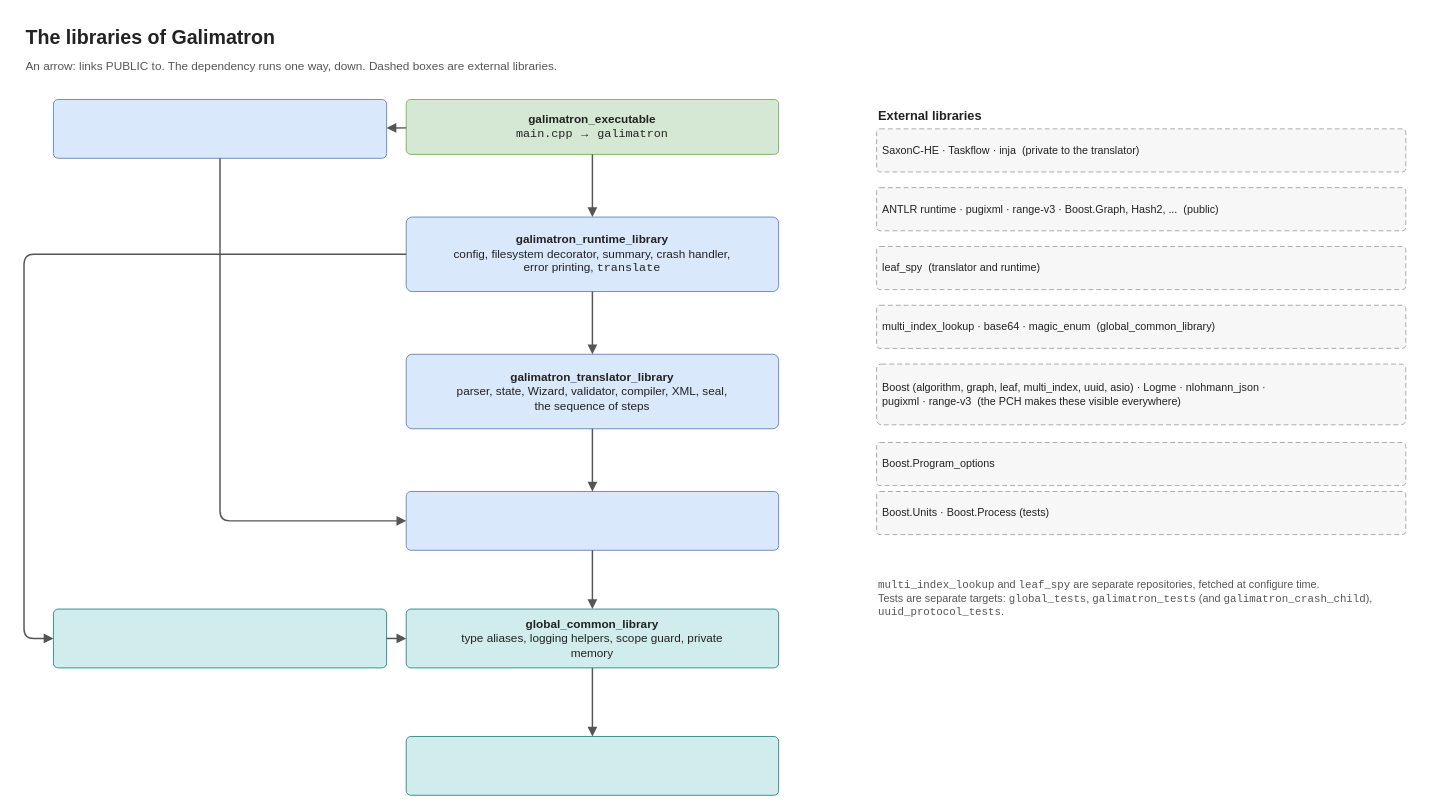
The diagram is 1443 pixels wide and 812 high, and some of its shapes have lost their labels. Here are the shapes that lost their labels. From the top down, the centre of each, then its label:
(219,128): galimatron_executable_library the command line (Boost.Program_options)
(592,520): galimatron_common_library exception vocabulary, path report
(219,638): global_filesystem_library the filesystem as a struct of functions
(592,765): global_pch_library owns the precompiled header ( pch.hpp )
